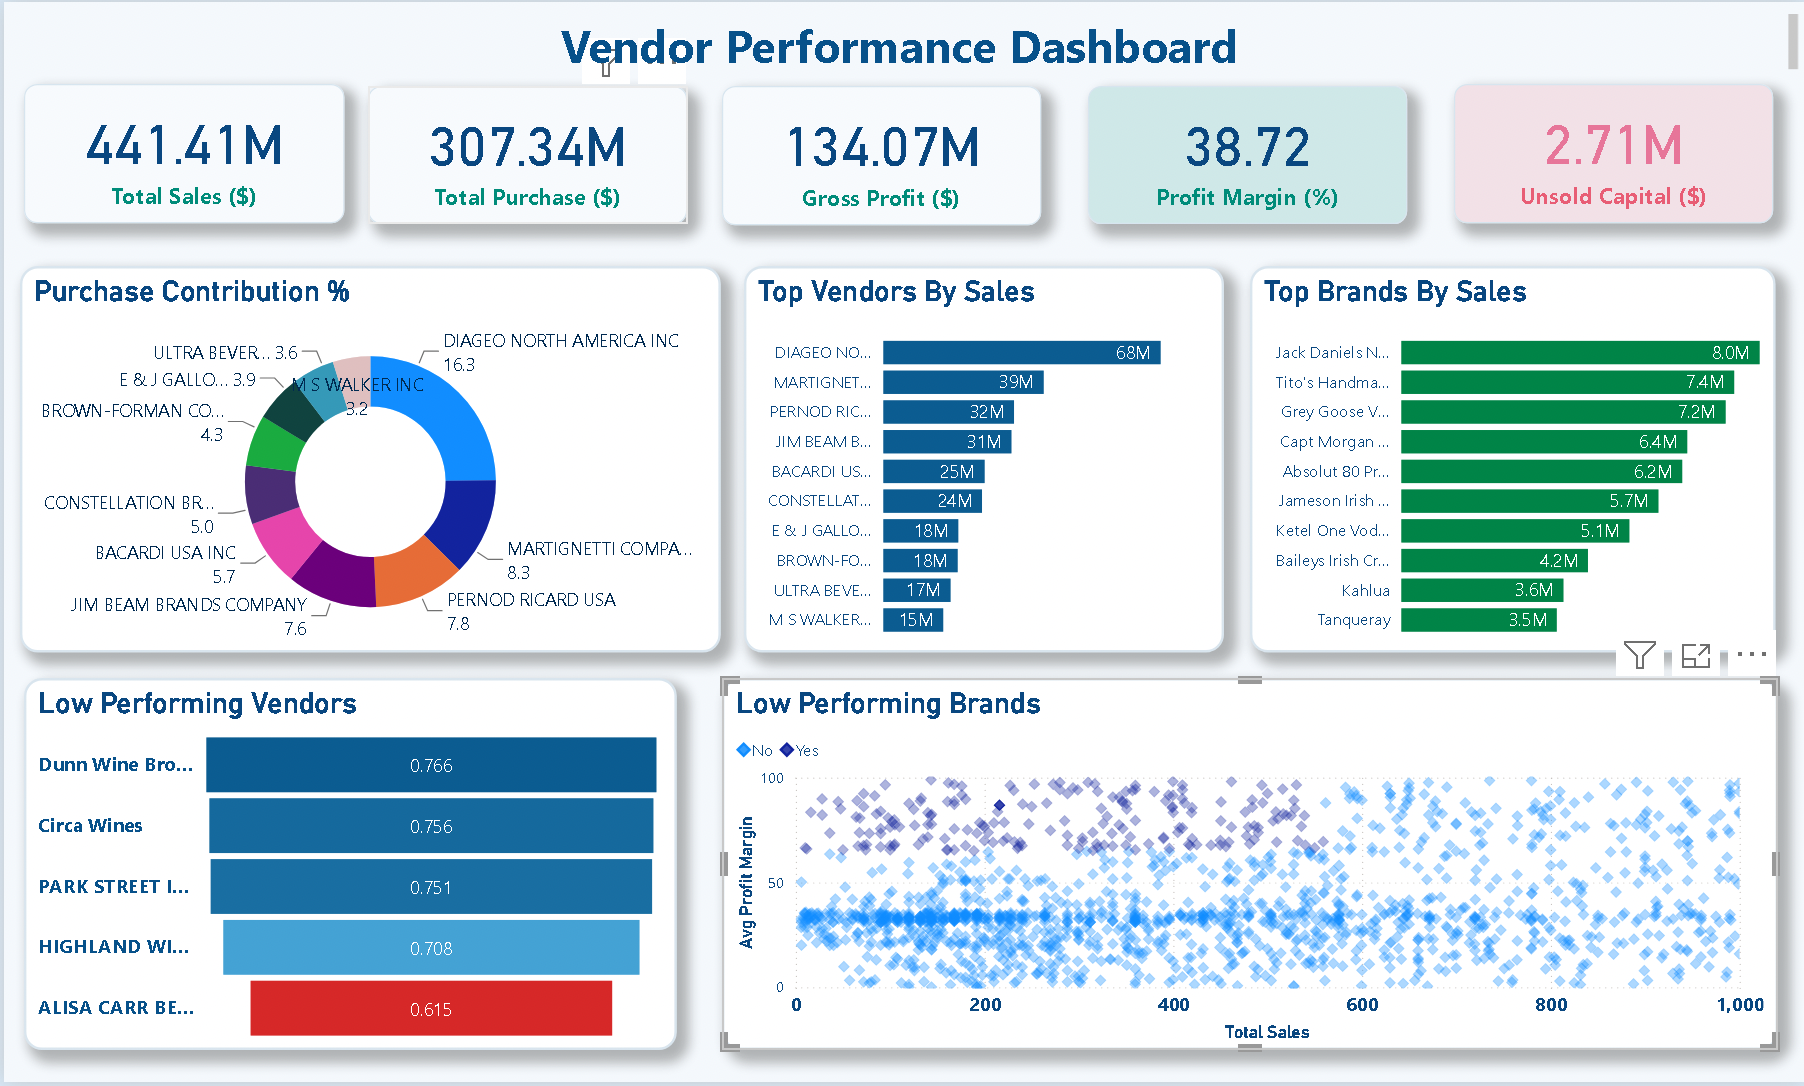

Layout of this report page (visuals, bound fields, positions):
{"tool":"powerbi","page":{"name":"Page 1","canvas":[1500,900],"ordinal":0},"visuals":[{"type":"card","fields":{"Values":["Sum(vendor_sales_summary.TotalPurchaseDollars)"]},"box":[304,70,266,115],"z":0},{"type":"card","fields":{"Values":["Sum(vendor_sales_summary.TotalSalesDollars)"]},"box":[16,68,266.9,116],"z":1000},{"type":"card","fields":{"Values":["Sum(vendor_sales_summary.GrossProfit)"]},"box":[598,70,266,116],"z":2000},{"type":"card","fields":{"Values":["Avg(vendor_sales_summary.ProfitMargin)"]},"box":[904,70,266,115],"z":3000},{"type":"card","fields":{"Values":["Sum(vendor_sales_summary.UnsoldCapital)"]},"box":[1208,68,266,116],"z":4000},{"type":"textbox","box":[0,0,1500,68],"z":5000},{"type":"donutChart","title":"Purchase Contribution % ","fields":{"Category":["PurchaseContribution.VendorName"],"Y":["Sum(PurchaseContribution.PurchaseContribution%)"]},"box":[14,220,584,322],"z":6000},{"type":"barChart","title":"Top Vendors By Sales","fields":{"Category":["vendor_sales_summary.VendorName"],"Y":["Sum(vendor_sales_summary.TotalSalesDollars)"]},"box":[616,220,400,322],"z":8000},{"type":"barChart","title":"Top Brands By Sales","fields":{"Category":["vendor_sales_summary.Description"],"Y":["Sum(vendor_sales_summary.TotalSalesDollars)"]},"box":[1038,220,438,322],"z":9000},{"type":"funnel","title":"Low Performing Vendors","fields":{"Category":["LowTurnoverVendor.VendorName"],"Y":["Avg(LowTurnoverVendor.AvgStockTurnOver)"]},"box":[16,564,544,310],"z":10000},{"type":"scatterChart","title":"Low Performing Brands","fields":{"X":["Sum(BrandPerformance.TotalSales)"],"Y":["Sum(BrandPerformance.AvgProfitMargin)"],"Series":["BrandPerformance.TargetBrand"],"Category":["BrandPerformance.Description"]},"box":[598,564,880,310],"z":11000}]}

Visuals, with their boxes in screenshot pixels (x1, y1, x2, y2), scaled from the page's 1500x900 canvas onto the 1804x1086 screenshot:
card - Sum(vendor_sales_summary.TotalPurchaseDollars): <bbox>366, 84, 686, 223</bbox>
card - Sum(vendor_sales_summary.TotalSalesDollars): <bbox>19, 82, 340, 222</bbox>
card - Sum(vendor_sales_summary.GrossProfit): <bbox>719, 84, 1039, 224</bbox>
card - Avg(vendor_sales_summary.ProfitMargin): <bbox>1087, 84, 1407, 223</bbox>
card - Sum(vendor_sales_summary.UnsoldCapital): <bbox>1453, 82, 1773, 222</bbox>
textbox: <bbox>0, 0, 1803, 82</bbox>
"Purchase Contribution % " donutChart: <bbox>17, 265, 719, 654</bbox>
"Top Vendors By Sales" barChart: <bbox>741, 265, 1222, 654</bbox>
"Top Brands By Sales" barChart: <bbox>1248, 265, 1775, 654</bbox>
"Low Performing Vendors" funnel: <bbox>19, 681, 673, 1055</bbox>
"Low Performing Brands" scatterChart: <bbox>719, 681, 1778, 1055</bbox>
